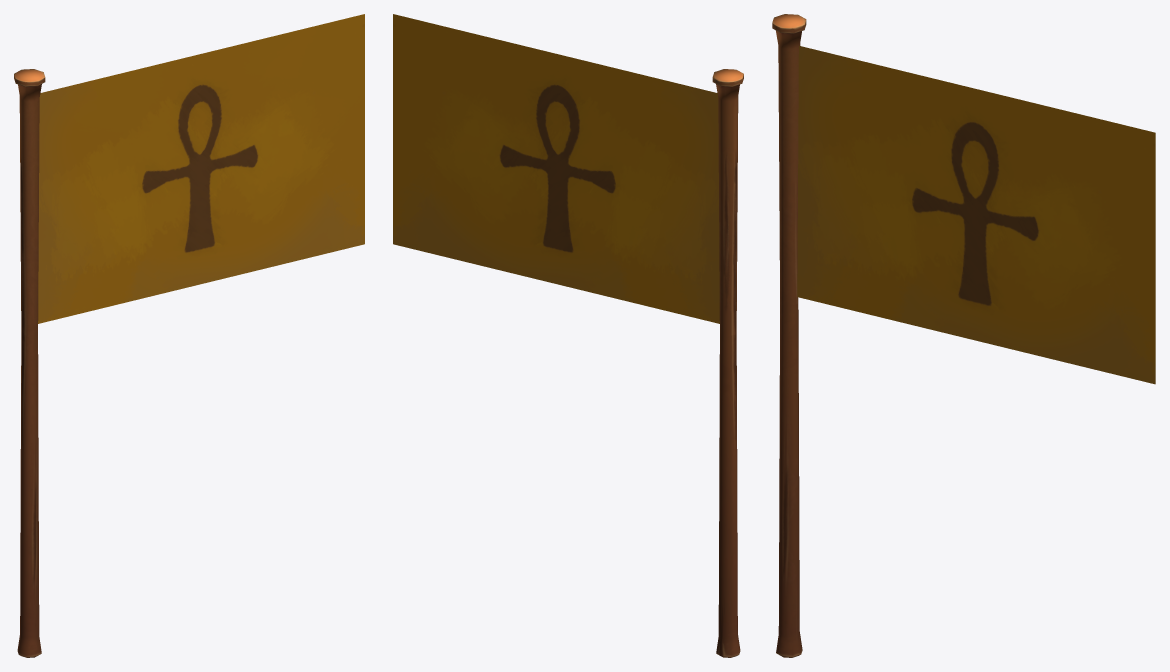
The model's file is 287_a_standart.fbx.
3 views of the same model, side by side, from view 1: azimuth 30°, elevation 25°; view 2: azimuth 150°, elevation 25°; view 3: azimuth 330°, elevation 25° (orthographic). The views are drawn at different scales.
Parts seen in each view (by area): view 1: 287_a_standart_02, 287_a_standart_01; view 2: 287_a_standart_02, 287_a_standart_01; view 3: 287_a_standart_02, 287_a_standart_01.
Part boxes in pixels (bbox=[...]): 287_a_standart_02: bbox=[38, 14, 364, 323]; 287_a_standart_01: bbox=[14, 69, 45, 657]; 287_a_standart_02: bbox=[393, 14, 719, 323]; 287_a_standart_01: bbox=[712, 69, 743, 657]; 287_a_standart_02: bbox=[797, 46, 1155, 384]; 287_a_standart_01: bbox=[772, 14, 806, 657].
Size of the model in its own units: 95.28 by 151 by 7.65.
